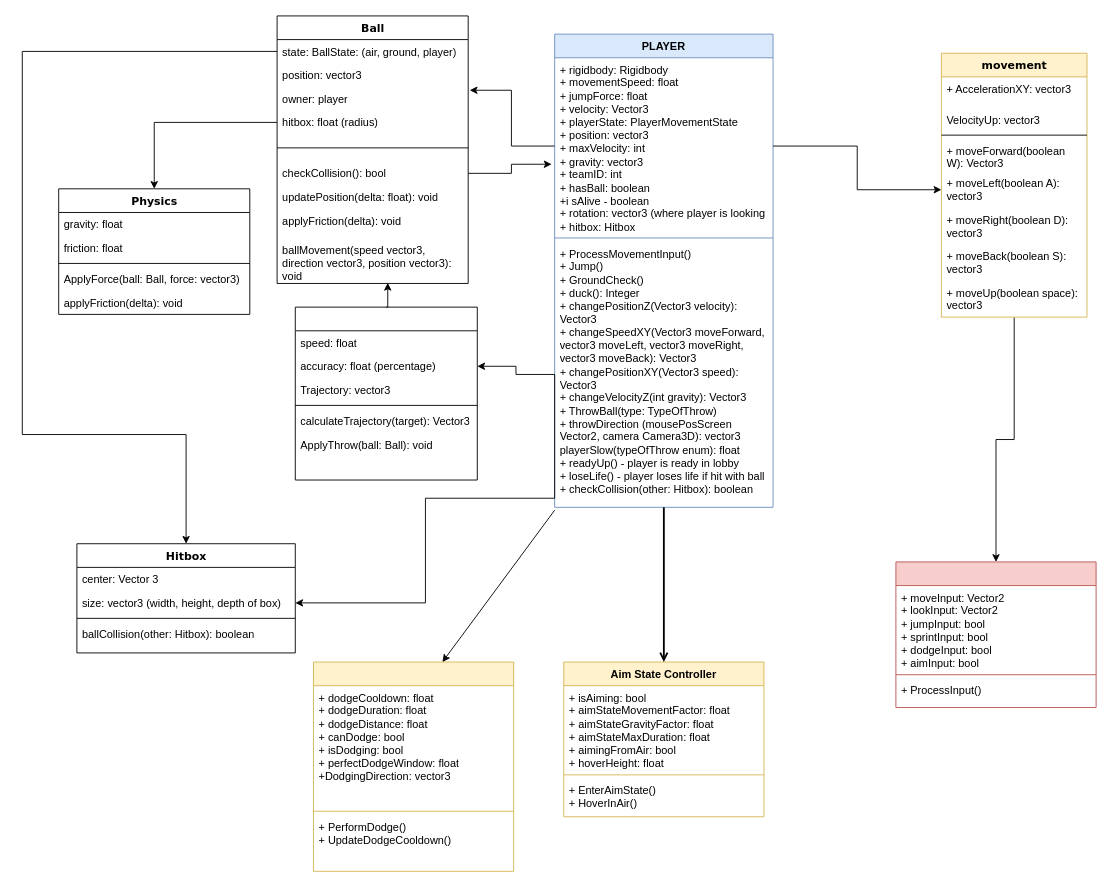
Image size: 1112x890. Some labels were removed from this diagram. The box of each missing label's shape, as (x1, y1, x2, y2) in pixels:
Dodge System: (313, 661, 514, 871)
Input Handler: (895, 561, 1096, 708)
TypeOfThrow: (294, 306, 477, 480)
